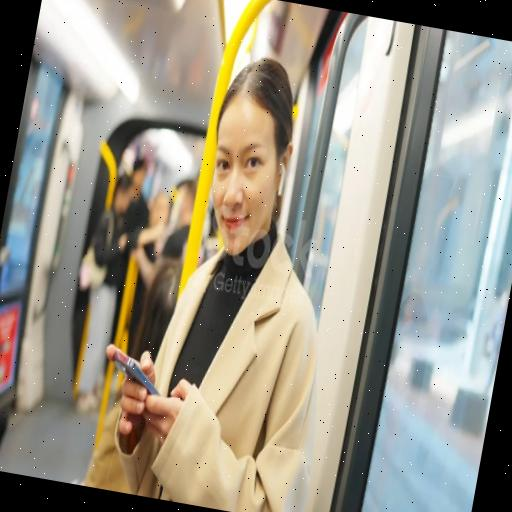earphone: (270, 160, 290, 202)
